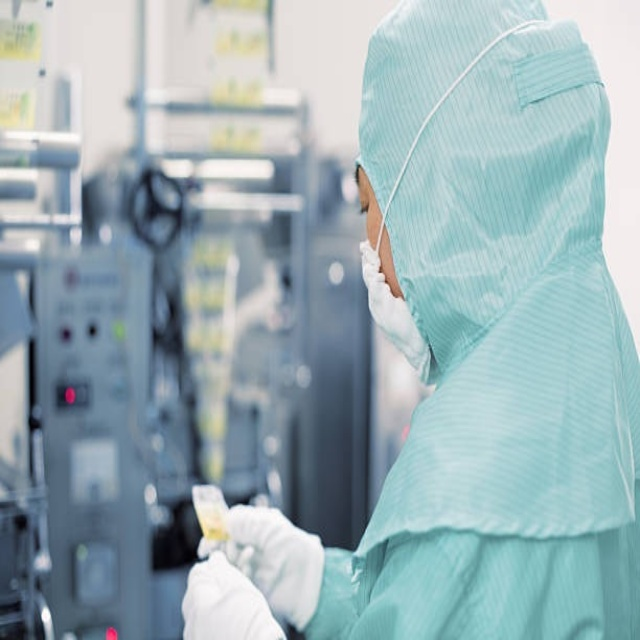Guantes: (182, 497, 330, 631)
Mascara: (361, 239, 430, 386)
Sin_gafas: (352, 160, 380, 227)
